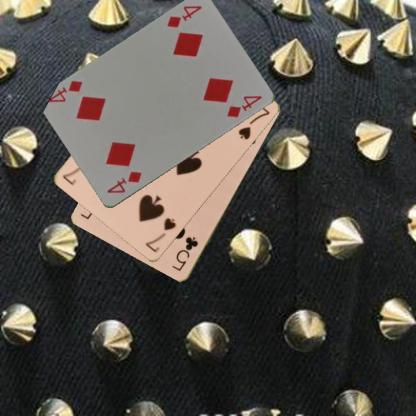4d: (104, 168, 143, 195), (164, 3, 203, 29)
5c: (169, 235, 200, 272)
7s: (143, 216, 177, 254)
